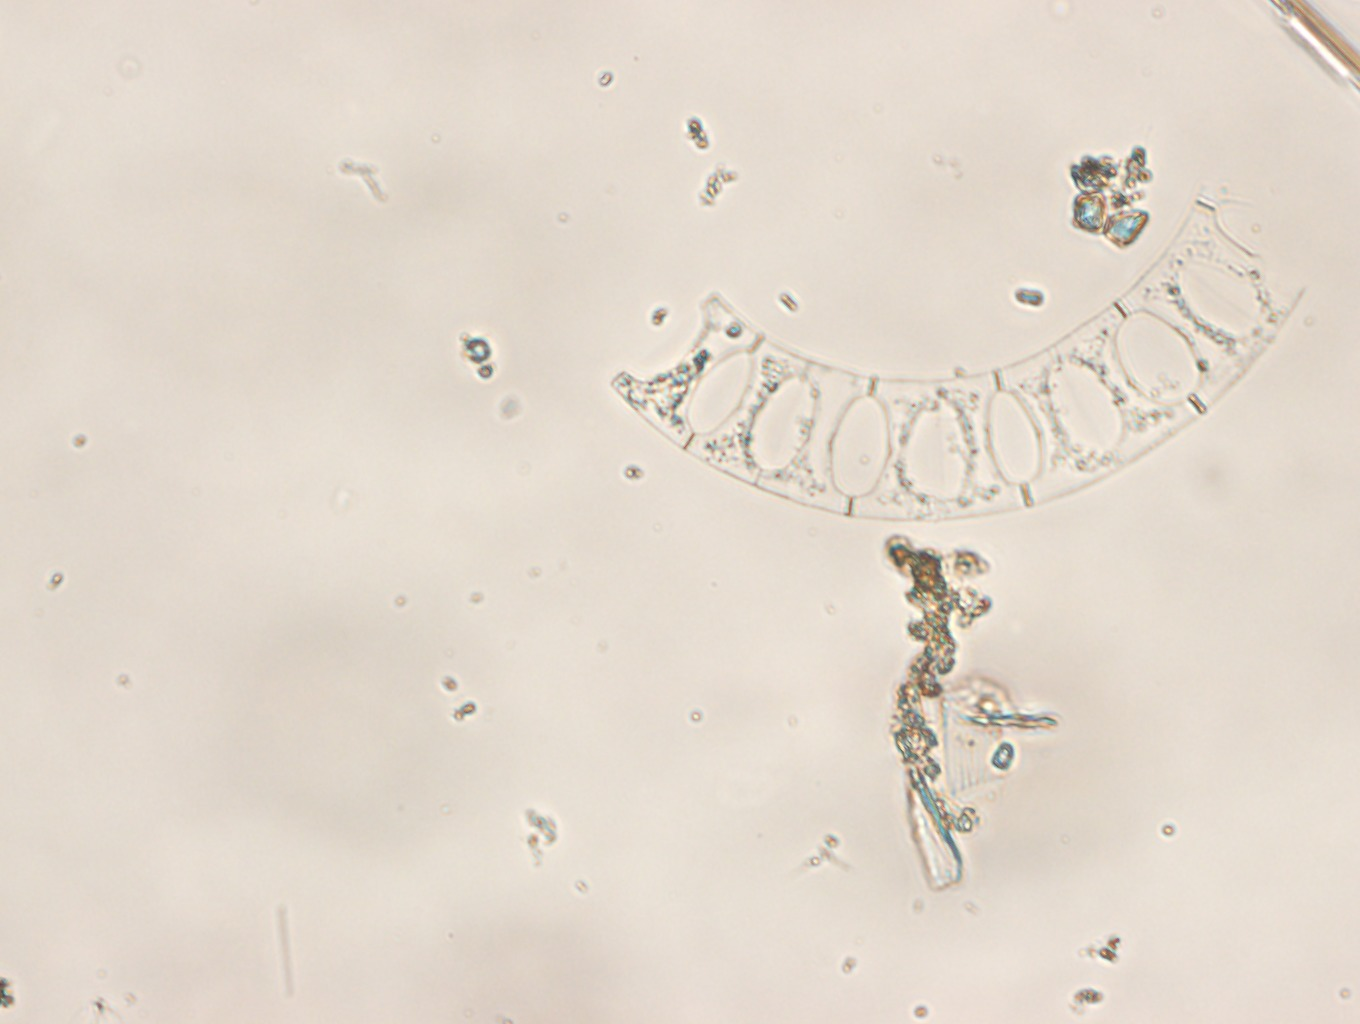eucampia: (612, 194, 1306, 522)
